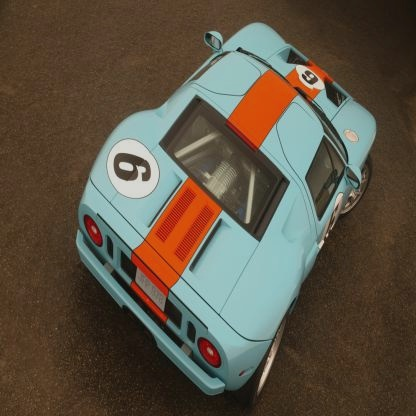Vehicle: (76, 23, 377, 410)
